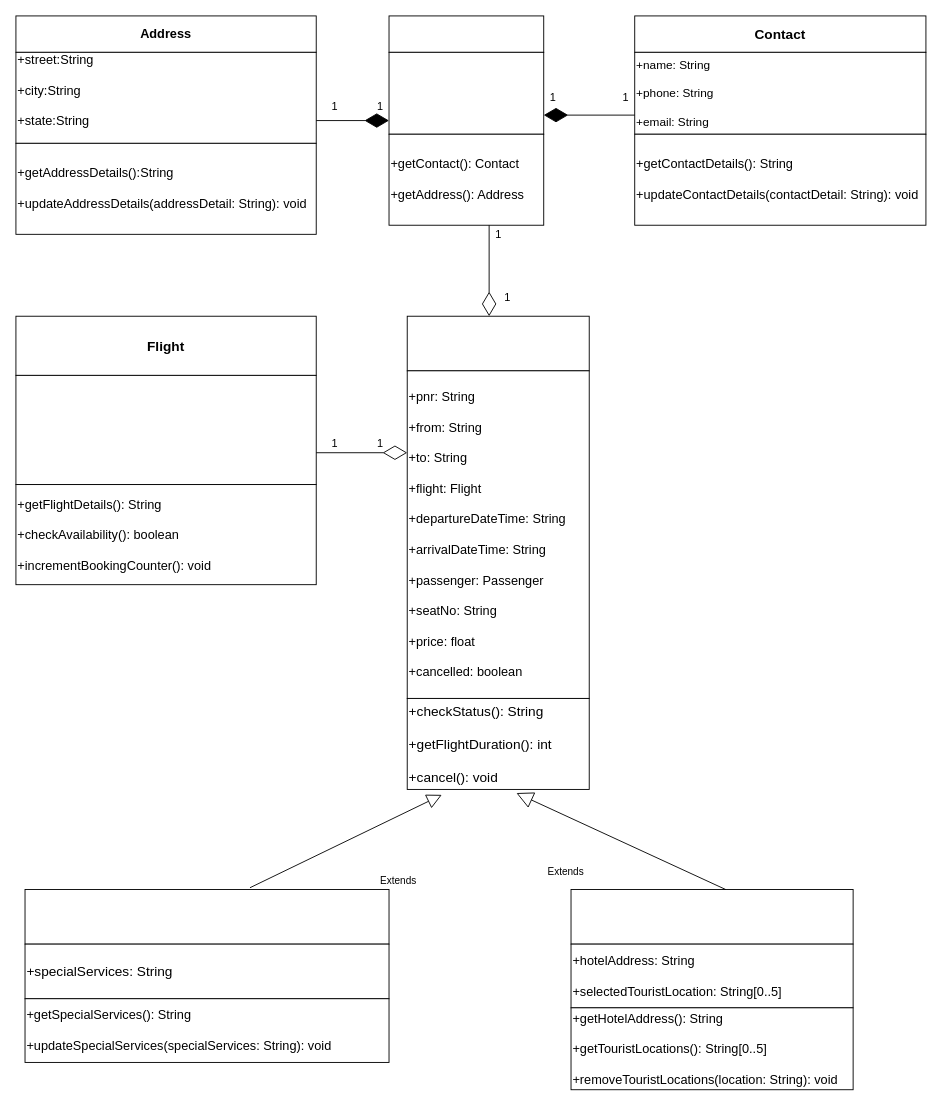
This 942x1106 diagram has some shape labels left out. The shapes that lost their labels are listed below. From the top down, each one's centre as x and y in pixels, then its label:
At (466,33): "Passenger".
At (466,92): "+id: int +address: Address +contact: Contact".
At (497,343): "Tickit".
At (165,429): "+flightNumber: String +airline: String +capacity: int -bookedSeats: int".
At (206,916): "Regular Ticket".
At (711,916): "TouristTicket".
